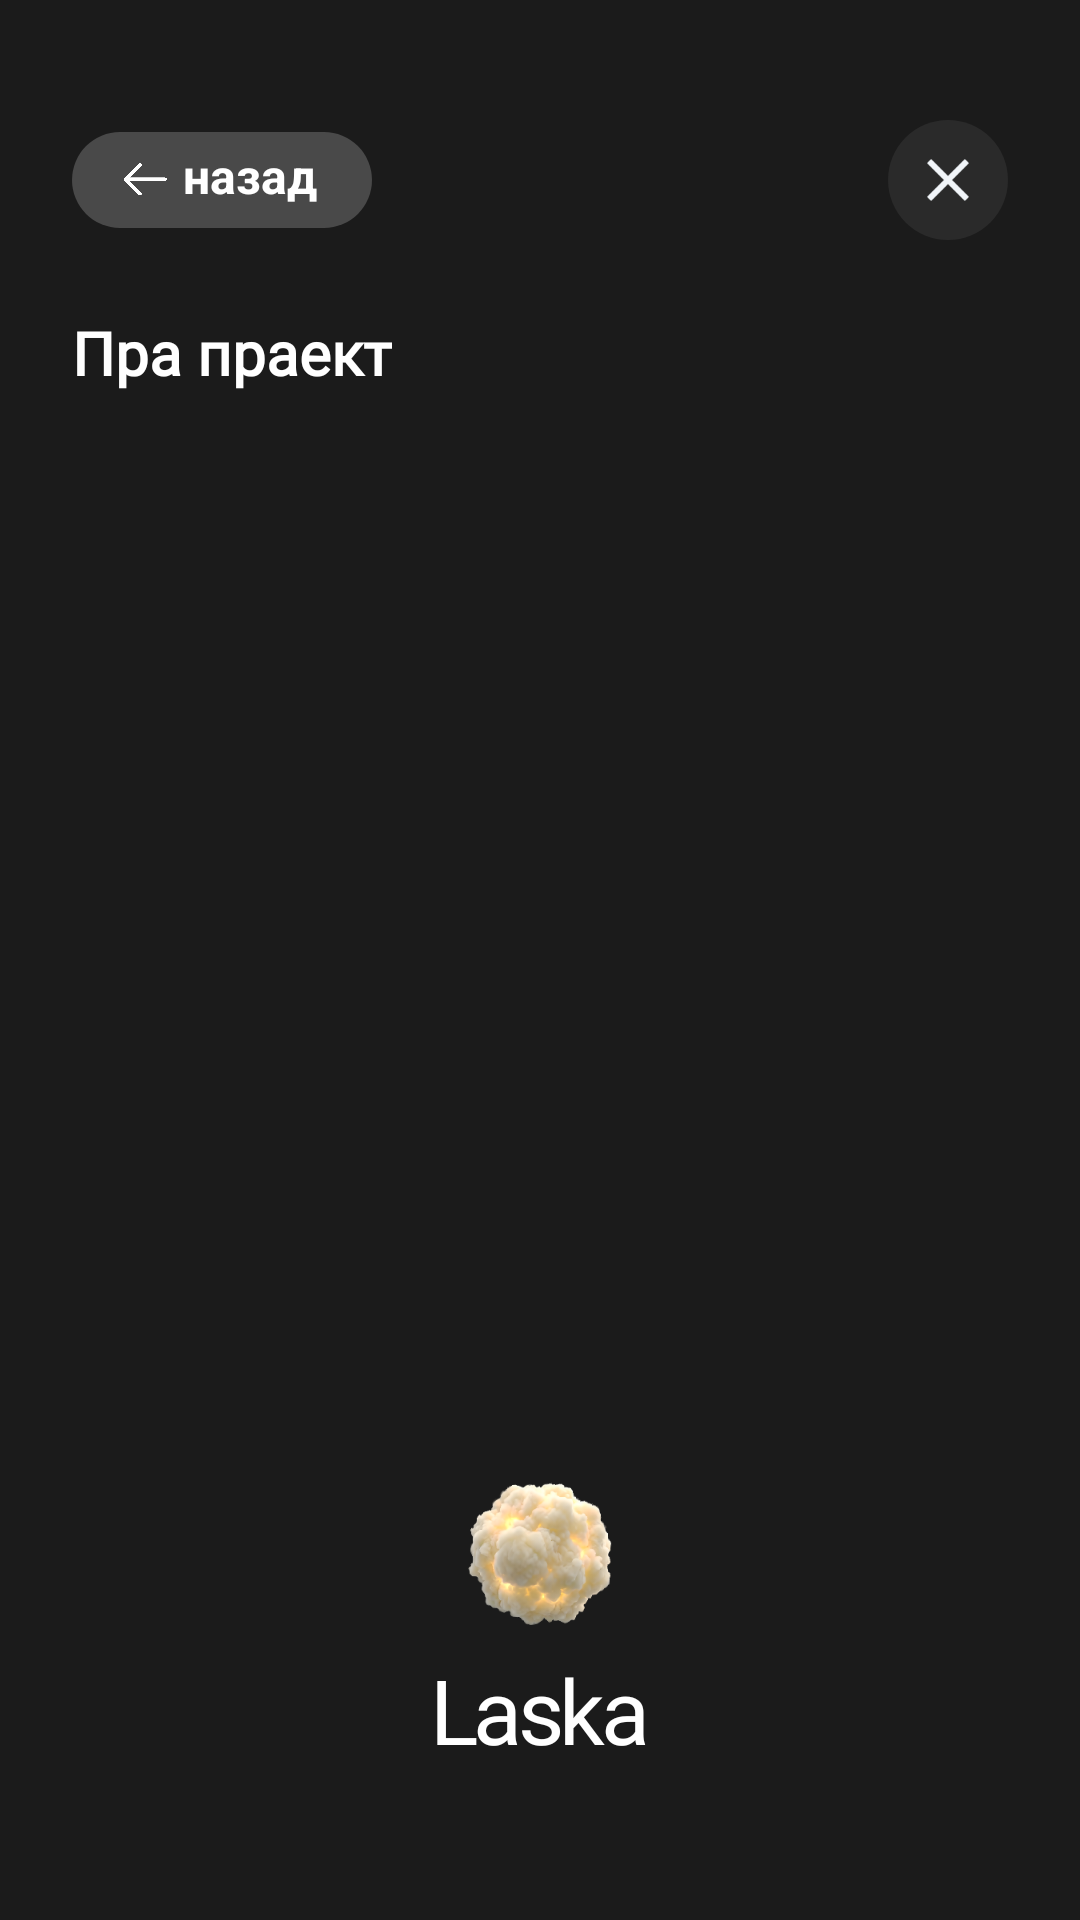

Locate icon controls on the screen. Image size 1080×1920, boxes as (x1, y1, x2, y2).
back: (124, 163, 167, 195)
close: (888, 120, 1008, 240)
